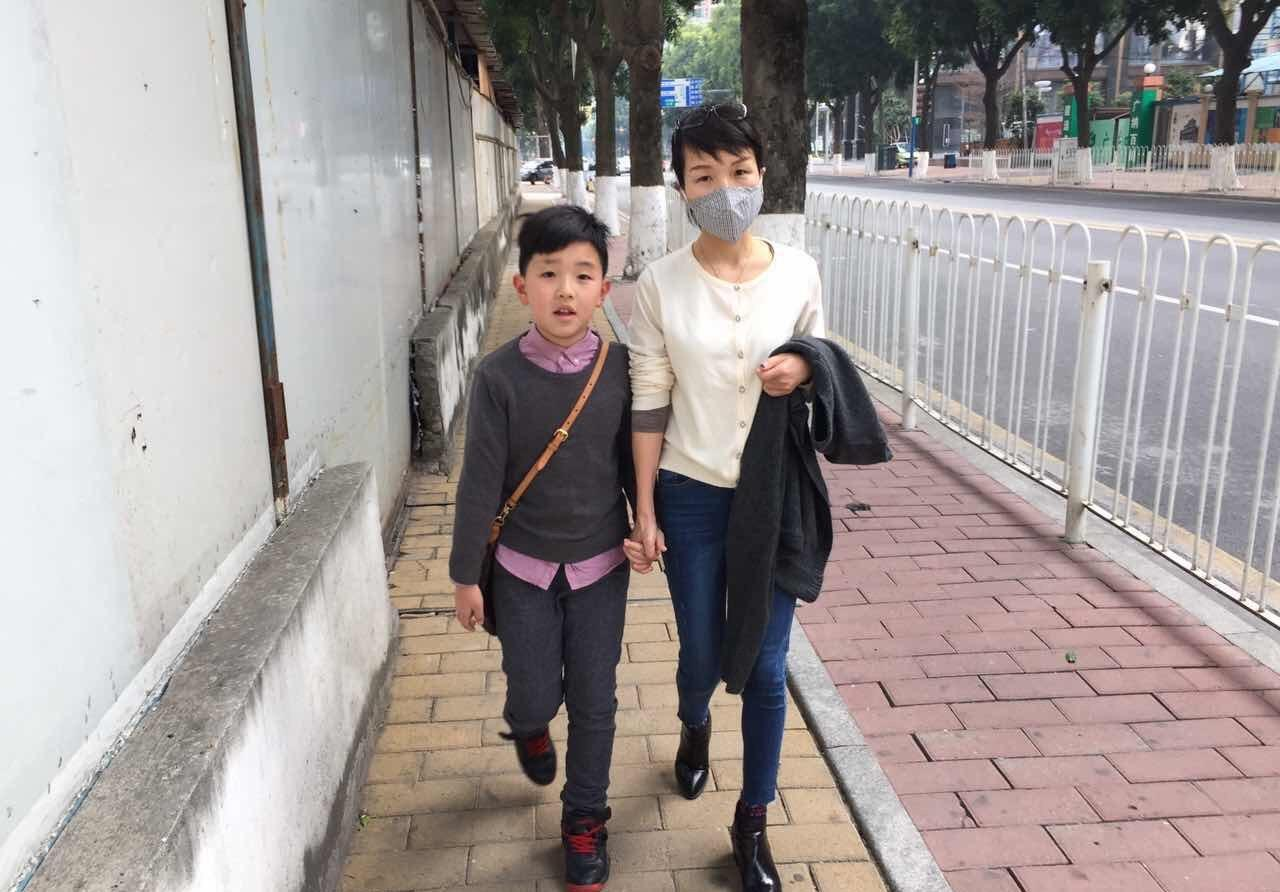NONE: (527, 253, 606, 339)
OK: (676, 147, 774, 245)
